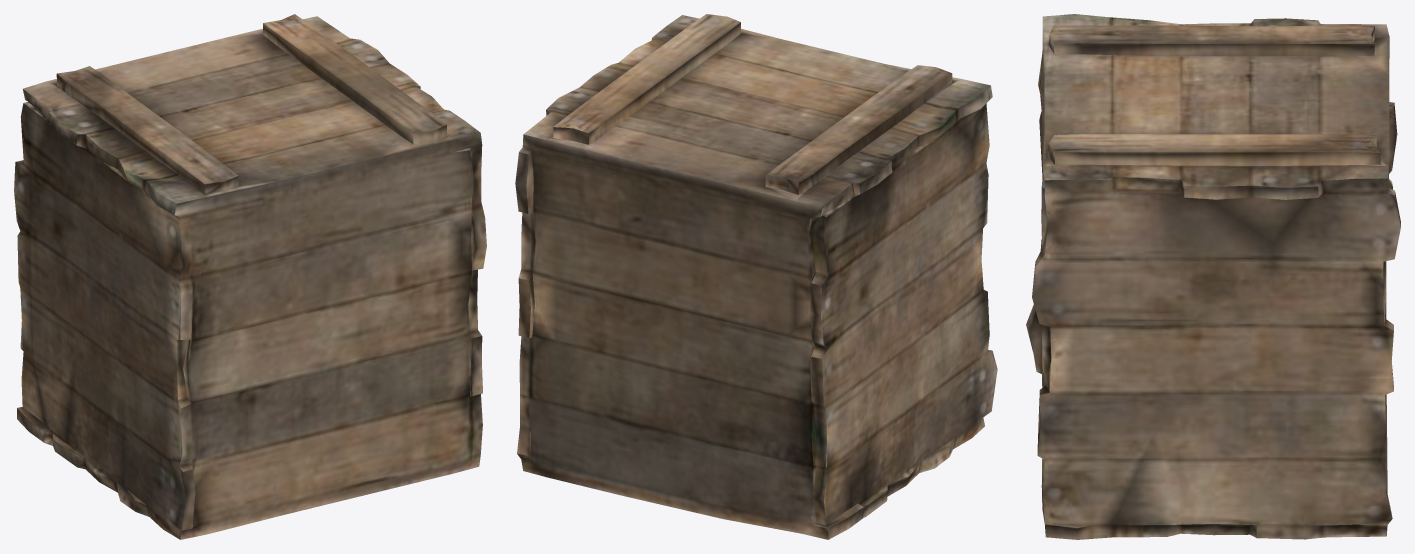
Rendered from wooden_box_01.glb.
3 renders of one model, left to right at view 1: azimuth 30°, elevation 25°; view 2: azimuth 150°, elevation 25°; view 3: azimuth 270°, elevation 25°, orthographic. The views are drawn at different scales.
Visible parts, largest first — view 1: wooden_box_01; view 2: wooden_box_01; view 3: wooden_box_01.
Part boxes in pixels (<box>): wooden_box_01: <box>14,14,486,539</box>; wooden_box_01: <box>515,14,997,539</box>; wooden_box_01: <box>1026,14,1400,539</box>.
Size of what is drawn, in the model's own units: 0.2627 by 0.2722 by 0.249.
1 material, 1 textured.
